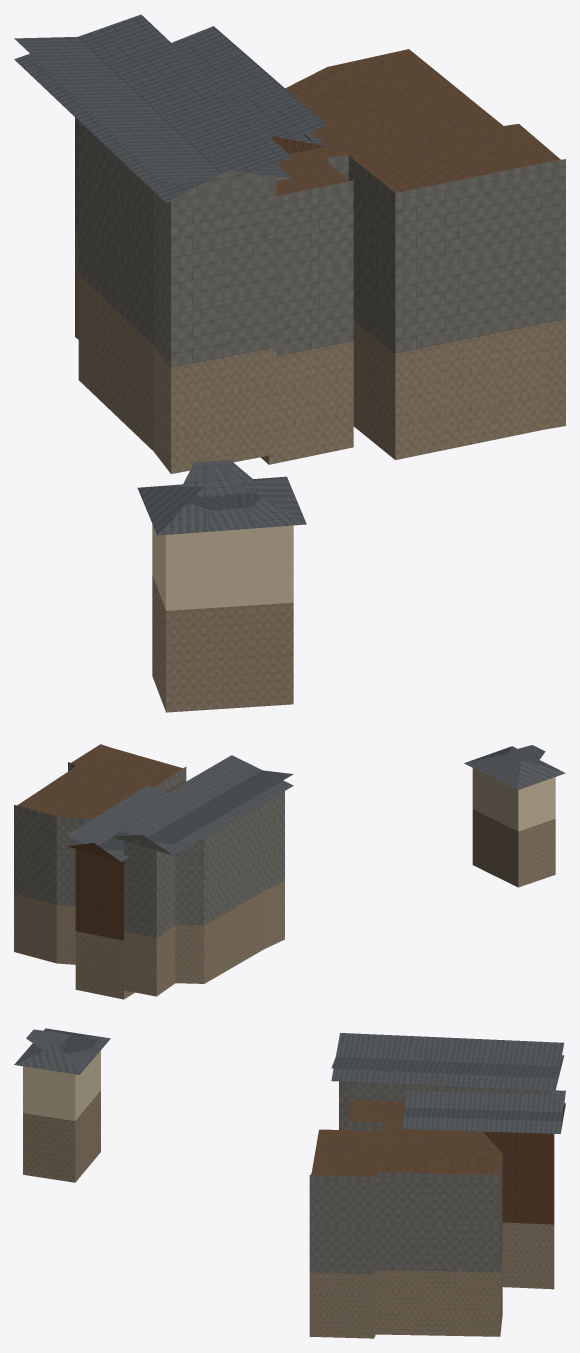
Rendered from bld_c31_-39_461.gltf.
The picture shows the model from 3 angles, top to bottom: view 1: azimuth 30°, elevation 25°; view 2: azimuth 150°, elevation 25°; view 3: azimuth 270°, elevation 25°; orthographic projection. The views are drawn at different scales.
Parts seen in each view (by area): view 1: bld_c31_-39_461; view 2: bld_c31_-39_461; view 3: bld_c31_-39_461.
Boxes of the visible parts, x1=… form: bld_c31_-39_461: x1=14, y1=14, x2=565, y2=712; bld_c31_-39_461: x1=14, y1=744, x2=565, y2=999; bld_c31_-39_461: x1=14, y1=1028, x2=565, y2=1338.
Bounding box in the file's own units: 31.68 × 15.2 × 39.46.
Materials: 8 (8 with a texture image).
